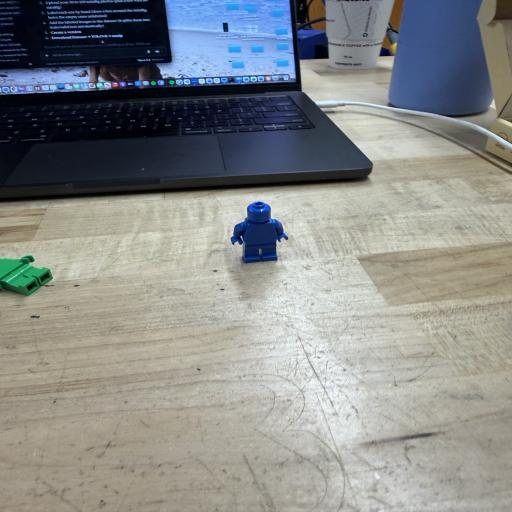blue-minifig: (230, 201, 288, 263)
green-minifig: (0, 256, 52, 295)
